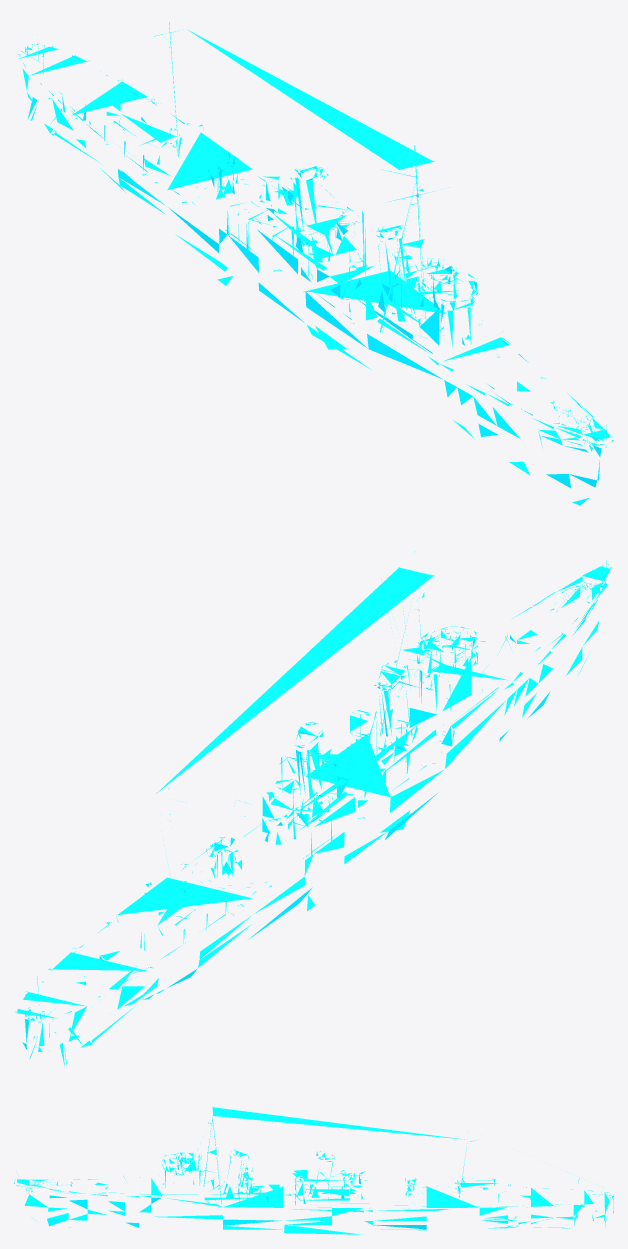
The model's file is Shinonome.glb.
3 views of the same model, one above another, from view 1: azimuth 30°, elevation 25°; view 2: azimuth 150°, elevation 25°; view 3: azimuth 270°, elevation 25° (orthographic). The views are drawn at different scales.
Bounding box in the file's own units: 0.7691 × 1.85 × 7.9.
